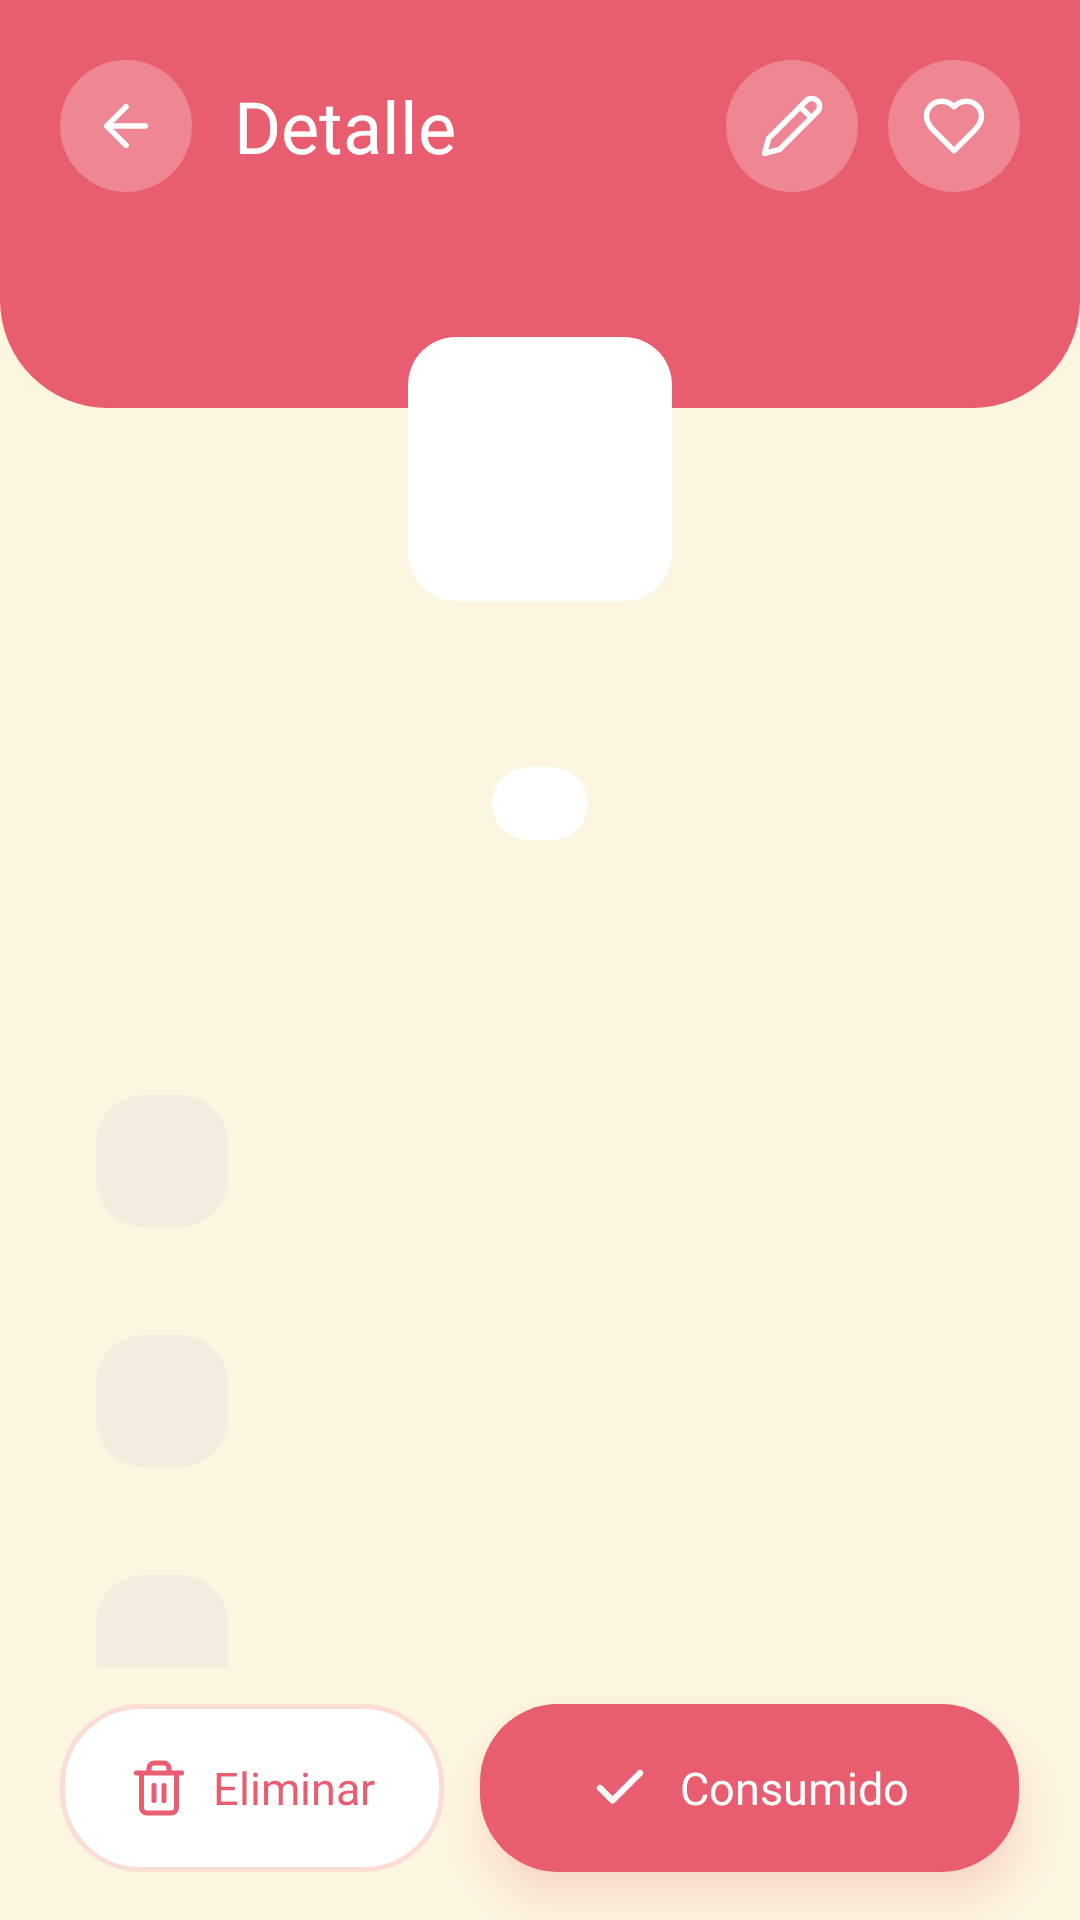

Icons on this 1080×1920 Android screen, each with its box as (x1, y1, x2, y2):
check: (596, 1769, 644, 1804)
Editar producto: (726, 60, 858, 192)
Marcar como favorito: (888, 60, 1020, 192)
trash: (134, 1760, 184, 1816)
Volver: (60, 60, 192, 192)
